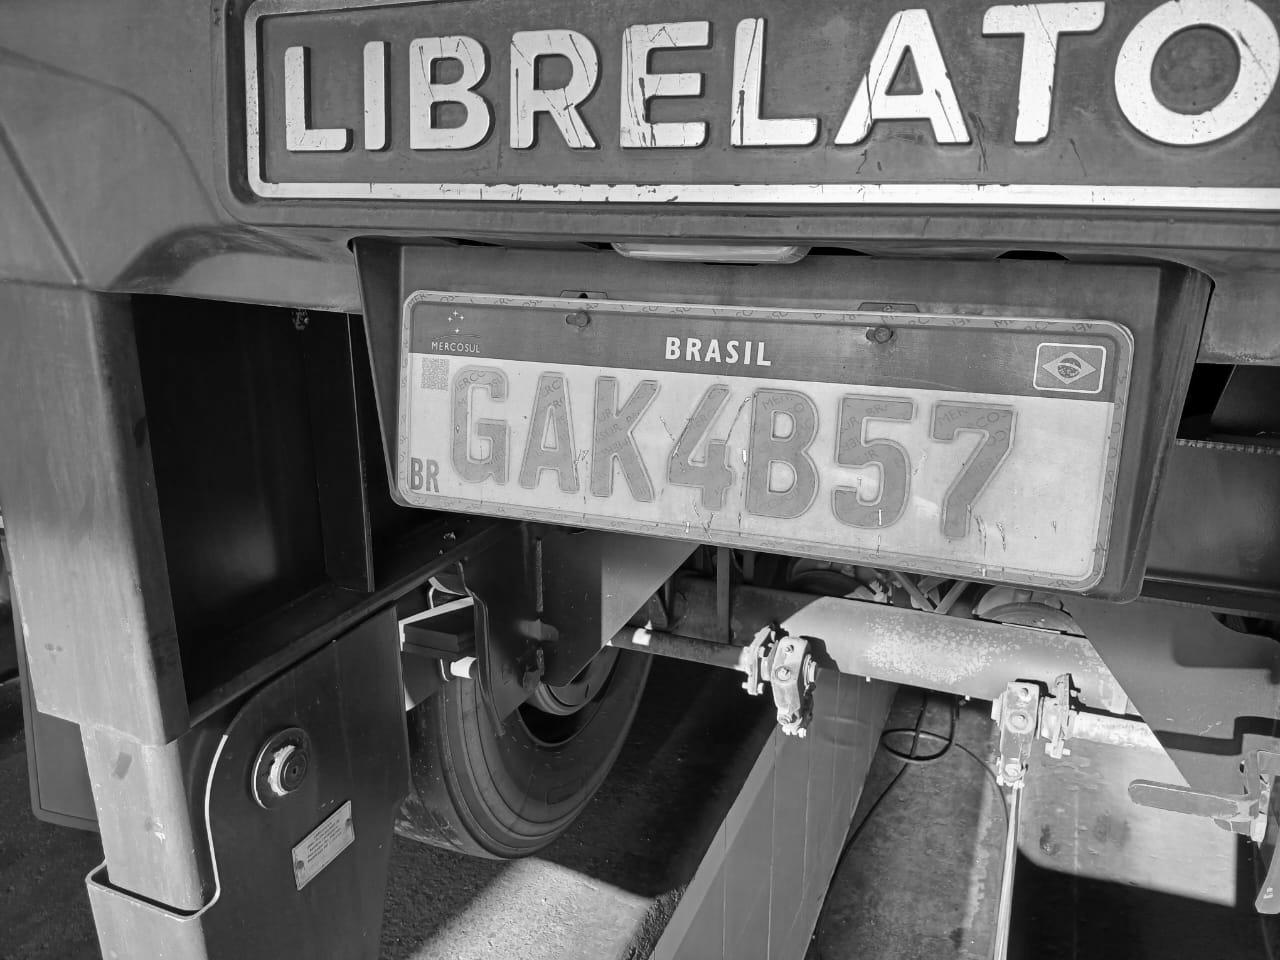placa_mercosul: (394, 291, 1129, 595)
